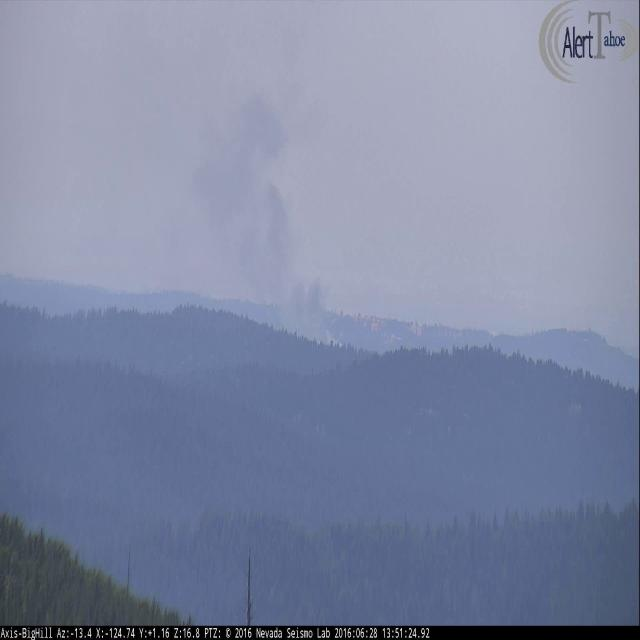smoke: (184, 82, 348, 323)
